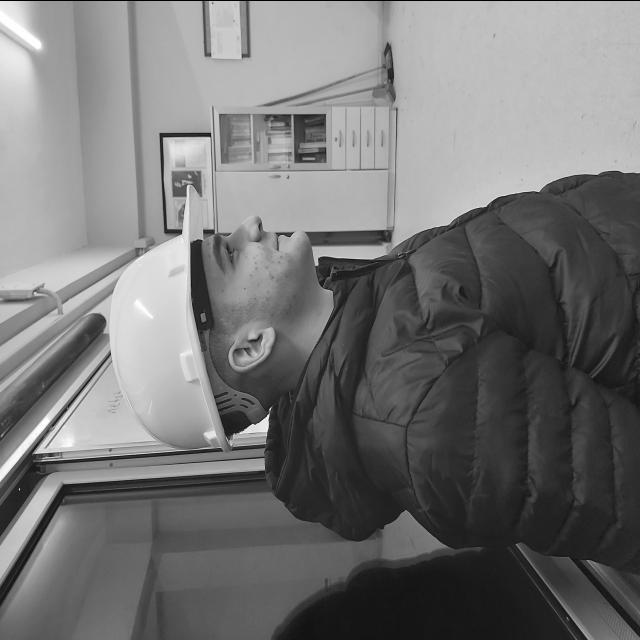safety_helmet: (110, 193, 261, 449)
